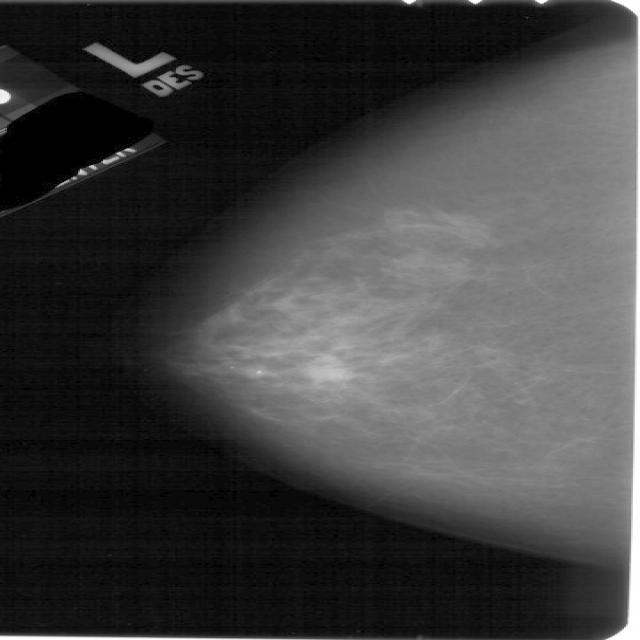tumour: (299, 356, 352, 381)
